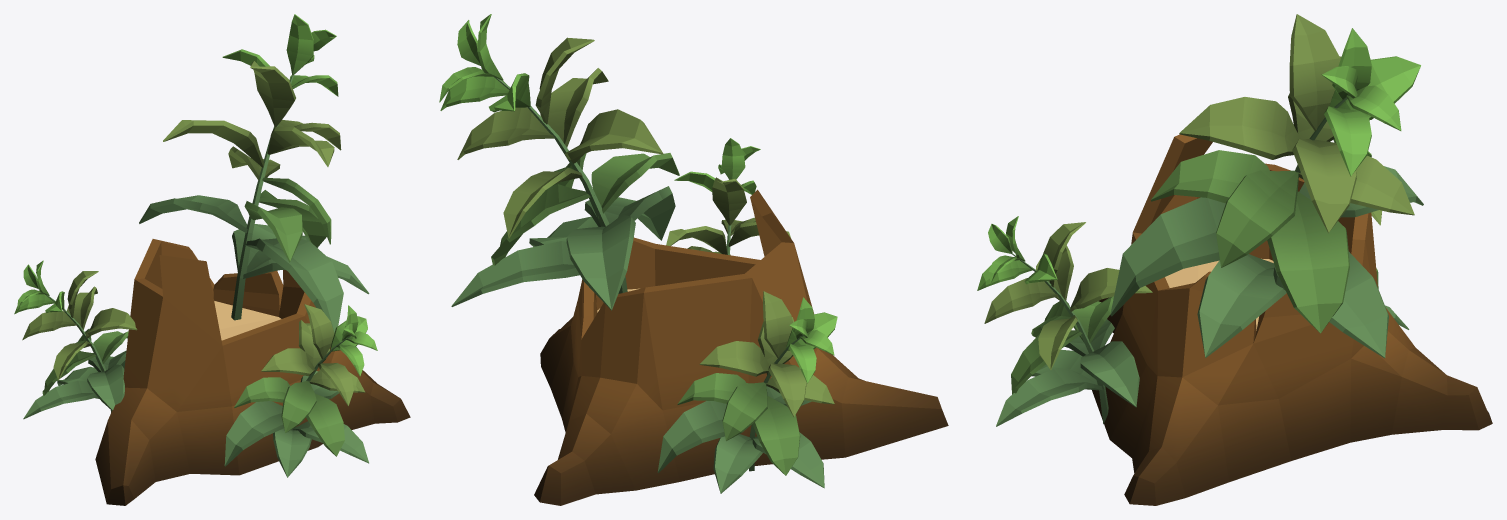
The model's file is TreeStump_B-01.fbx.
3 views of the same model, side by side, from view 1: azimuth 30°, elevation 25°; view 2: azimuth 150°, elevation 25°; view 3: azimuth 270°, elevation 25° (orthographic). The views are drawn at different scales.
Parts seen in each view (by area): view 1: TreeStump_B-01; view 2: TreeStump_B-01; view 3: TreeStump_B-01.
Boxes of the visible parts, x1=… form: TreeStump_B-01: x1=14, y1=14, x2=410, y2=505; TreeStump_B-01: x1=439, y1=14, x2=948, y2=505; TreeStump_B-01: x1=977, y1=14, x2=1492, y2=505.
Bounding box in the file's own units: 1959 × 1991 × 2028.
